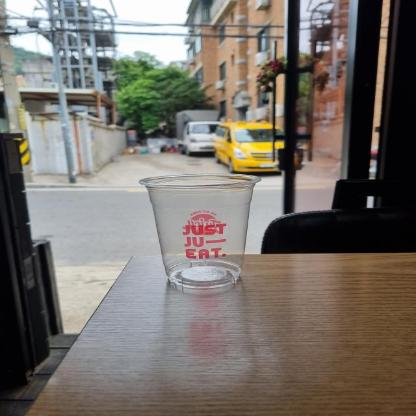Plastic Cup: (136, 172, 268, 296)
